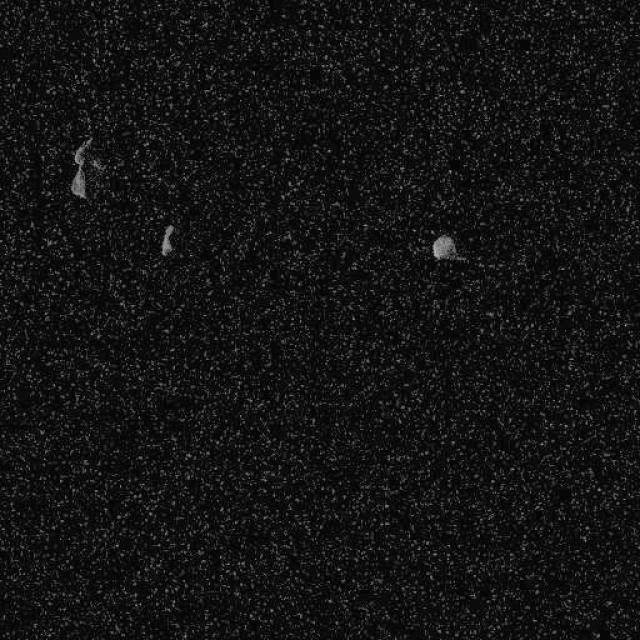D2: (68, 135, 94, 200), (431, 232, 459, 260), (159, 222, 175, 256)
